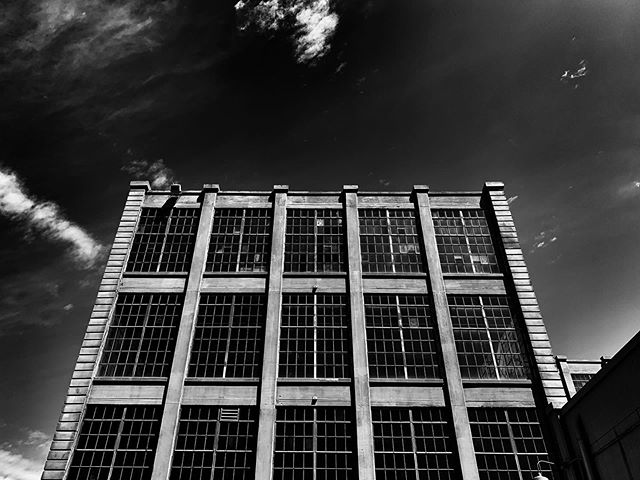building: (90, 178, 566, 480)
sky: (1, 1, 637, 313)
